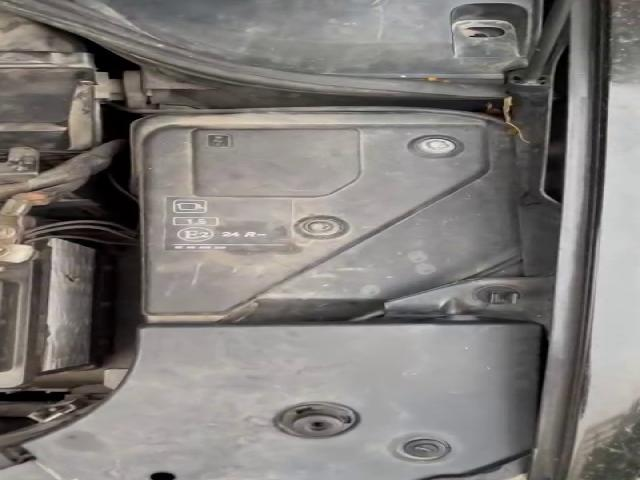fuse_box: (148, 122, 515, 316)
